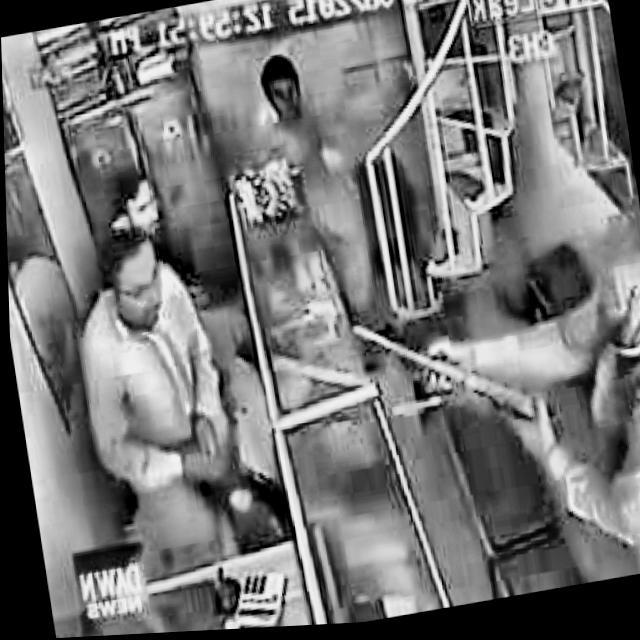Weapon: (86, 213, 241, 391), (236, 35, 382, 197)
